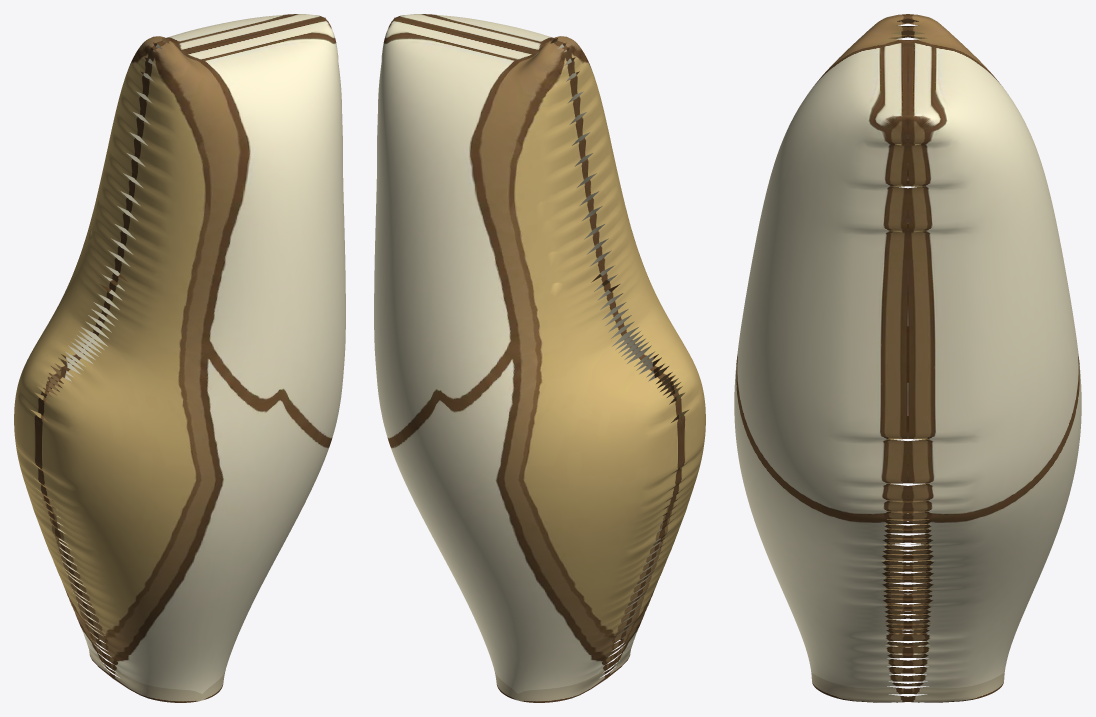
File: stair_balustrade.glb
3 renders of one model, left to right at view 1: azimuth 30°, elevation 25°; view 2: azimuth 150°, elevation 25°; view 3: azimuth 270°, elevation 25°, orthographic. The views are drawn at different scales.
Visible parts, largest first — view 1: stair_balustrade; view 2: stair_balustrade; view 3: stair_balustrade.
Boxes of the visible parts, left/top/right/bottom form: stair_balustrade: left=14, top=14, right=345, bottom=702; stair_balustrade: left=374, top=14, right=705, bottom=702; stair_balustrade: left=734, top=14, right=1081, bottom=702.
Bounding box in the file's own units: 0.9774 × 2.03 × 0.9548.
1 material, 1 textured.
